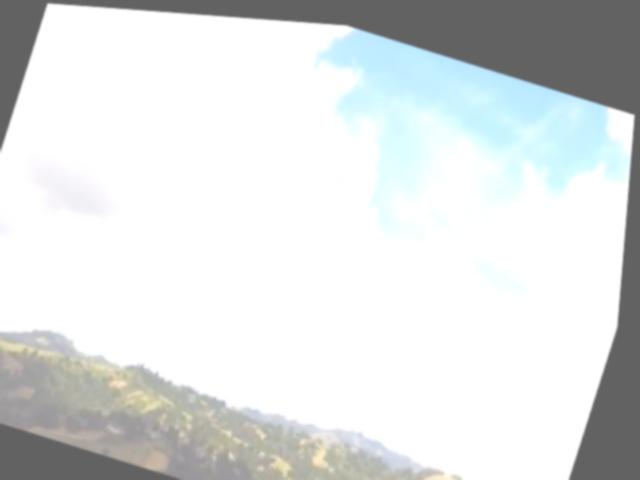iha: (330, 157, 353, 190)
